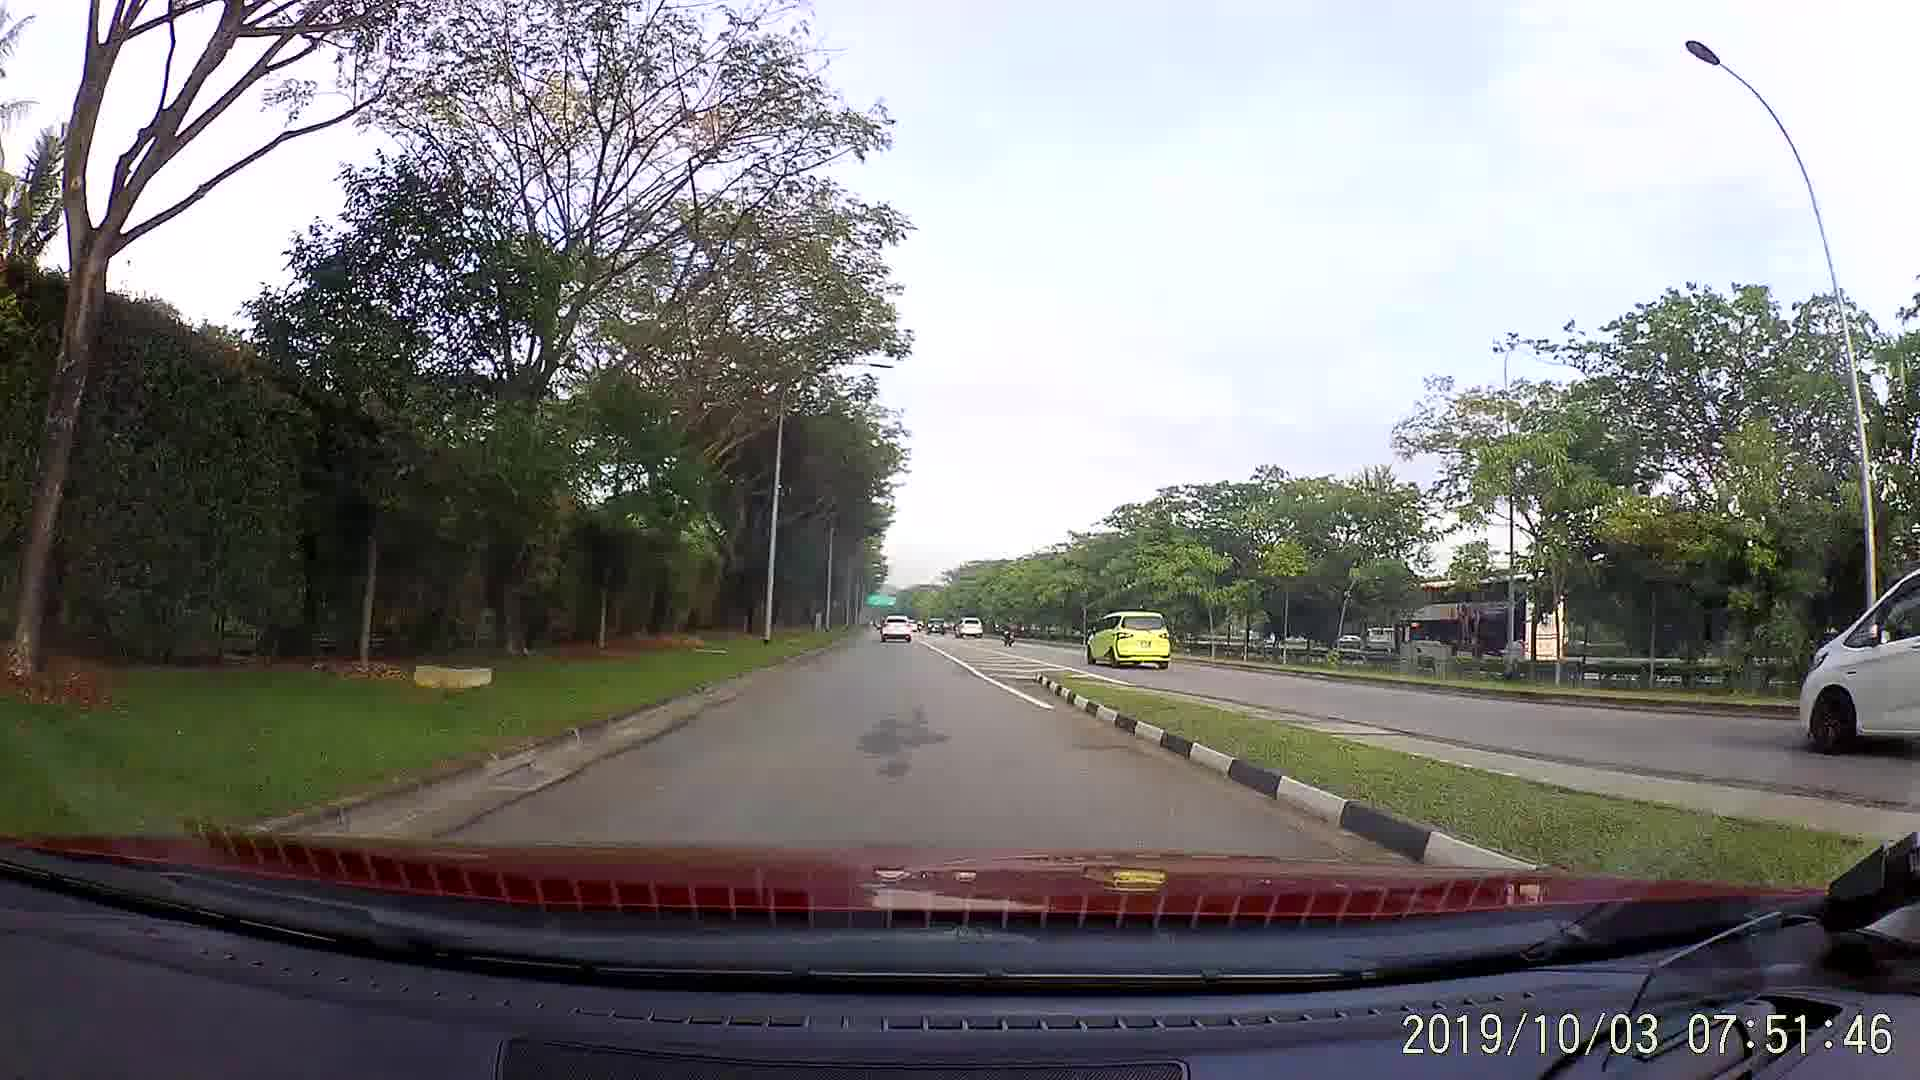bus: (1398, 578, 1563, 673)
car: (1808, 555, 1913, 761), (1089, 615, 1168, 670), (880, 611, 915, 646), (948, 608, 989, 637)
